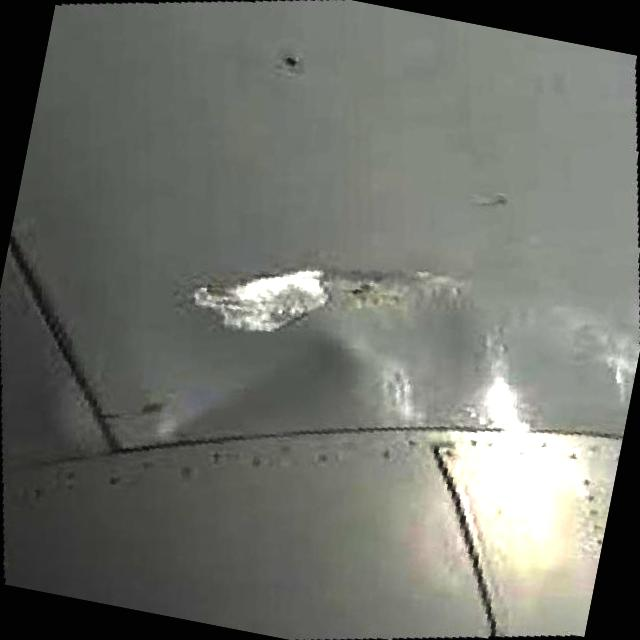dent: (192, 224, 469, 374), (308, 327, 430, 431), (456, 318, 538, 437)
